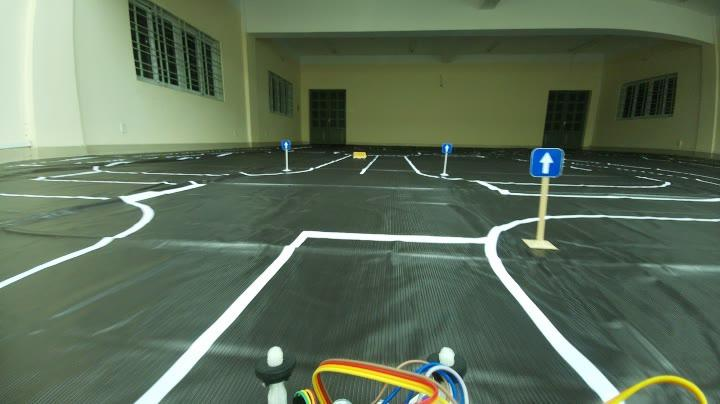onewayroad: (530, 142, 560, 183), (278, 136, 292, 148), (444, 140, 451, 156)
roadblock: (348, 148, 368, 162)
